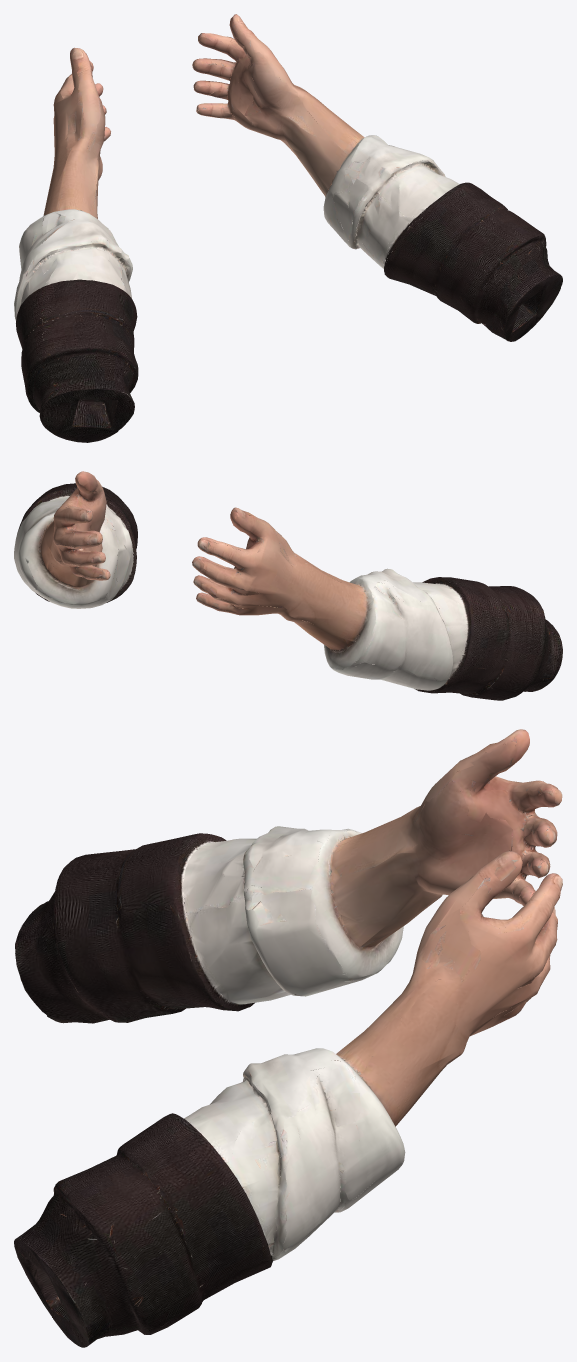
File: first-person-arms.glb
3 views of the same model, one above another, from view 1: azimuth 30°, elevation 25°; view 2: azimuth 150°, elevation 25°; view 3: azimuth 270°, elevation 25° (orthographic). The views are drawn at different scales.
Visible parts, largest first — view 1: Mesh_0; view 2: Mesh_0; view 3: Mesh_0.
Part boxes in pixels (<box>): Mesh_0: <box>14,14,562,442</box>; Mesh_0: <box>14,471,562,700</box>; Mesh_0: <box>14,729,562,1347</box>.
Size of the model in its own units: 1.9 by 0.8899 by 1.13.
Materials: 1 (1 with a texture image).
